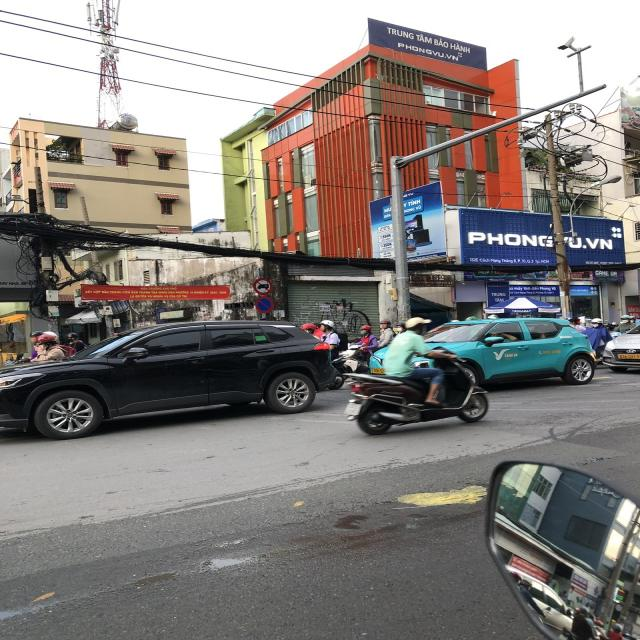Bien bao cam do xe: (252, 295, 276, 313)
Bien bao cam xe oto tai: (250, 276, 274, 295)
